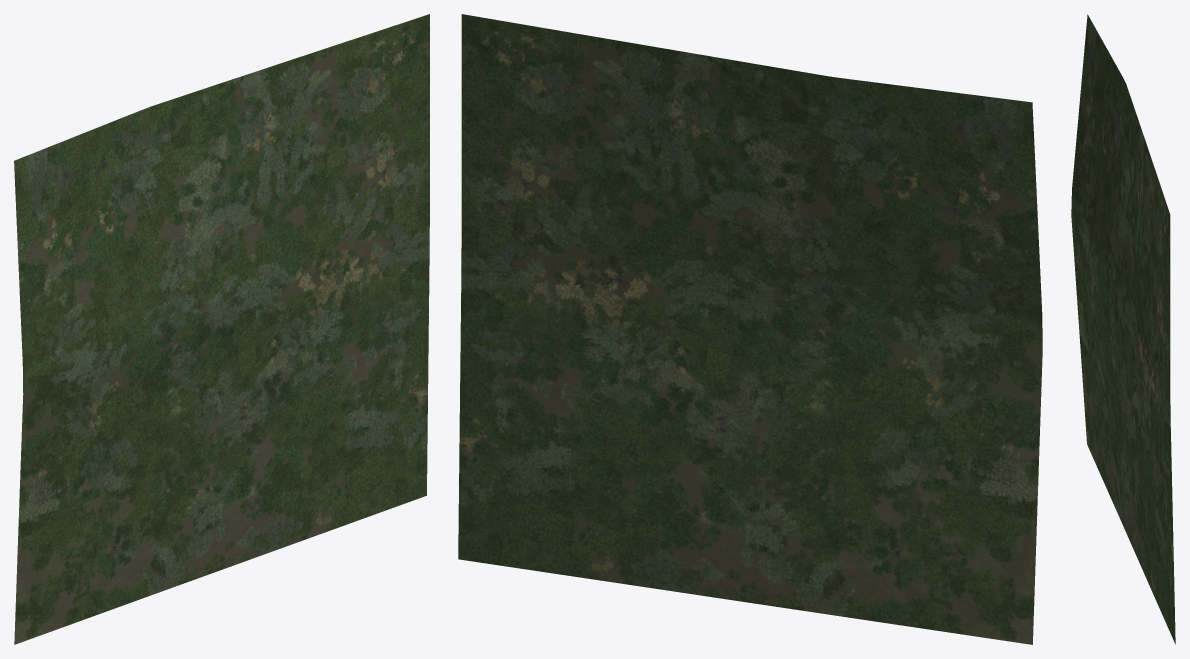
The model's file is terrain_core_00_00.obj.
The picture shows the model from 3 angles, left to right: view 1: azimuth 30°, elevation 25°; view 2: azimuth 150°, elevation 25°; view 3: azimuth 270°, elevation 25°; orthographic projection. The views are drawn at different scales.
Parts seen in each view (by area): view 1: terrain_core_00_00; view 2: terrain_core_00_00; view 3: terrain_core_00_00.
Part boxes in pixels (box(x1,y1,x2,y2)): terrain_core_00_00: box(14, 14, 429, 644); terrain_core_00_00: box(458, 14, 1042, 644); terrain_core_00_00: box(1071, 14, 1175, 644).
Size of the model in its own units: 32 by 32 by 7.03.
1 material, 1 textured.
